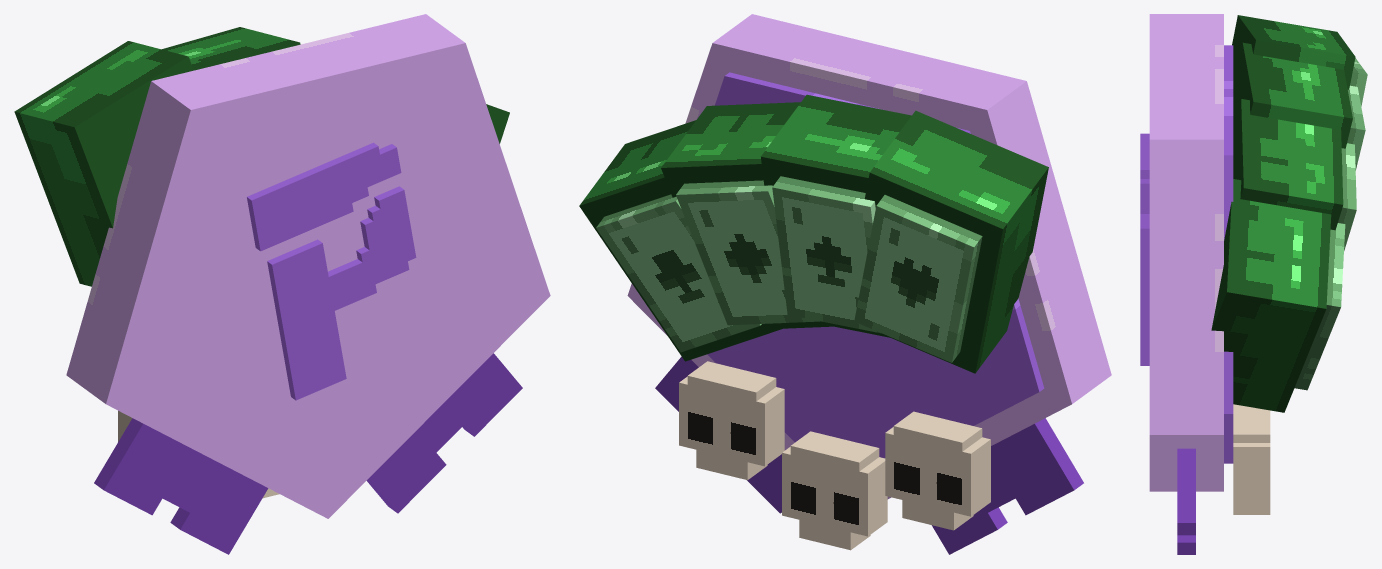
Rendered from achievement_dealer.gltf.
The picture shows the model from 3 angles, left to right: view 1: azimuth 30°, elevation 25°; view 2: azimuth 150°, elevation 25°; view 3: azimuth 270°, elevation 25°; orthographic projection. The views are drawn at different scales.
Visible parts, largest first — view 1: Main-Local, Frame2-Local, Frame1-Local, BackP-Local, card_4-Local, Frame3-Local, Frame5-Local, Ribbon2-Local, Frame4-Local, Ribbon1-Local, card_3-Local; view 2: card_4-Local, card_3-Local, card_2-Local, Frame1-Local, card_1-Local, Frame2-Local, Main-Local, Skull3_3-Local, Skull3_2-Local, Skull3_1-Local, Ribbon2-Local, Border4-Local (+7 smaller); view 3: Frame5-Local, card_1-Local, card_2-Local, Frame1-Local, card_3-Local, card_4-Local, Skull3_2-Local, Frame4-Local, BackP-Local, Ribbon1-Local, Border5-Local, Border1-Local (+1 smaller).
Boxes of the visible parts, x1,y1,x2,y2 form: Main-Local: (173,101,482,472); Frame2-Local: (66,81,255,410); Frame1-Local: (151,14,465,181); BackP-Local: (247,142,416,400); card_4-Local: (14,41,193,286); Frame3-Local: (106,336,368,518); Frame5-Local: (401,43,550,333); Ribbon2-Local: (94,418,268,554); Frame4-Local: (288,247,550,518); Ribbon1-Local: (366,353,522,513); card_3-Local: (162,27,300,72); card_4-Local: (854,110,1048,373); card_3-Local: (761,94,911,337); card_2-Local: (661,102,832,329); Frame1-Local: (712,14,1026,140); card_1-Local: (579,120,782,361); Frame2-Local: (931,81,1111,407); Main-Local: (742,326,982,431); Skull3_3-Local: (885,411,990,530); Skull3_2-Local: (679,361,784,480); Skull3_1-Local: (782,431,887,550); Ribbon2-Local: (932,418,1083,554); Border4-Local: (707,333,884,450); Frame5-Local: (1149,139,1223,434); card_1-Local: (1211,179,1345,412); card_2-Local: (1233,99,1356,250); Frame1-Local: (1149,14,1223,139); card_3-Local: (1233,42,1365,170); card_4-Local: (1232,15,1367,106); Skull3_2-Local: (1233,404,1270,514); Frame4-Local: (1149,435,1223,491); BackP-Local: (1140,133,1149,365); Ribbon1-Local: (1177,448,1195,554); Border5-Local: (1224,155,1233,413); Border1-Local: (1224,45,1233,155).
Bounding box in the file's own units: 51.88 × 52.15 × 24.47.
Materials: 21 (21 with a texture image).
